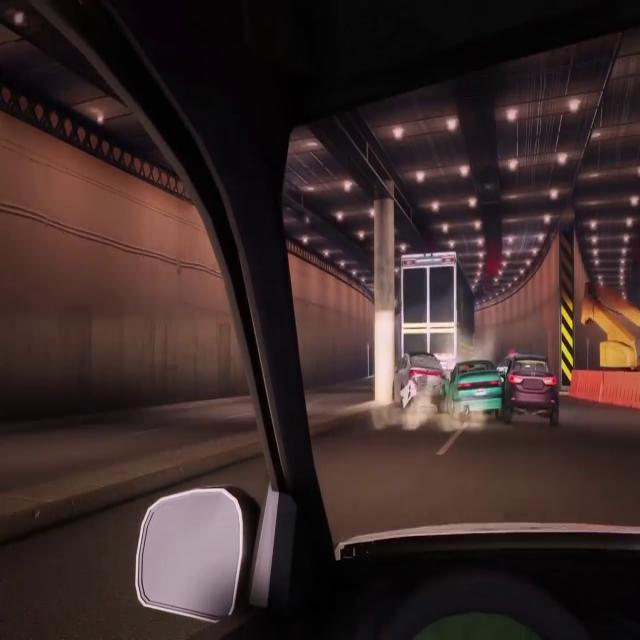accident: (393, 347, 560, 434)
